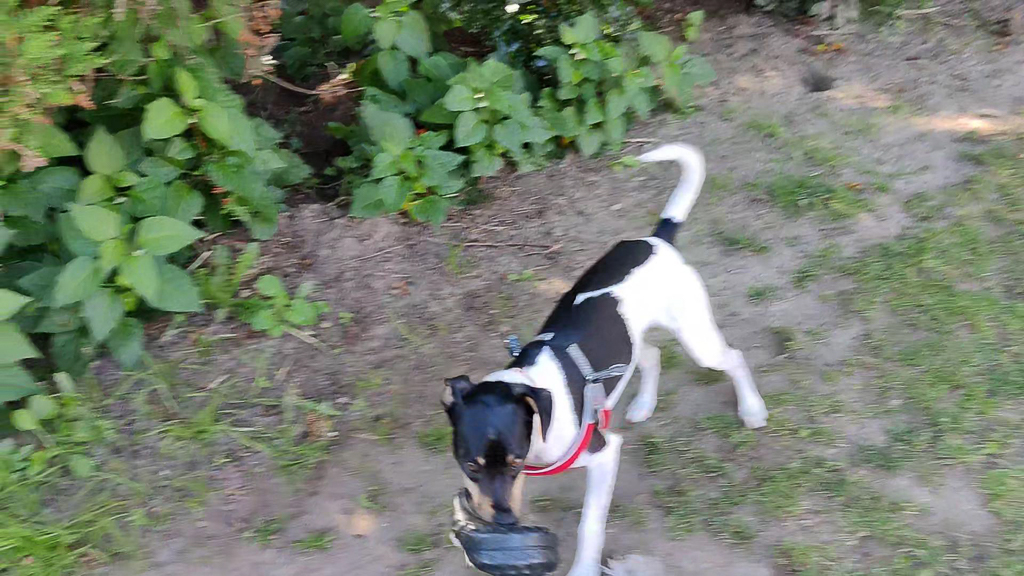Dog: (418, 130, 792, 576)
